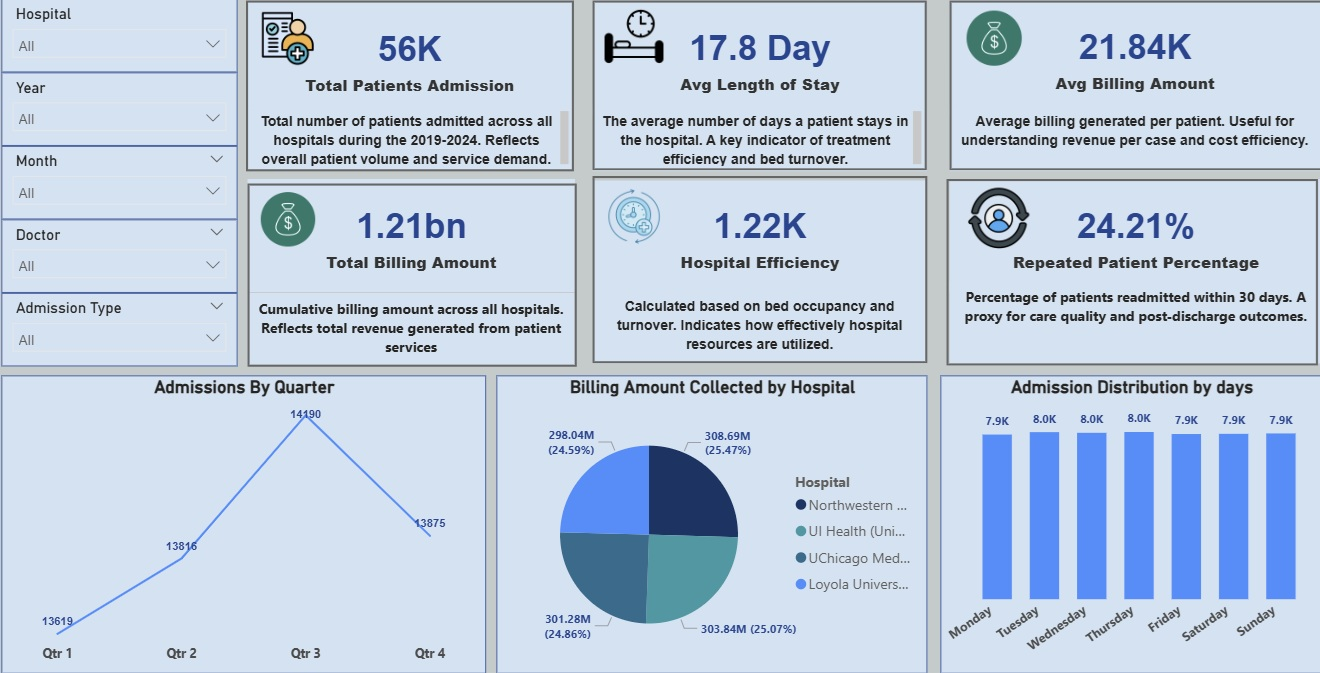

The page's visual inventory and layout, read from the dashboard file:
{"tool":"powerbi","page":{"name":"Executive Summary","canvas":[1280,720],"ordinal":2},"visuals":[{"type":"textbox","box":[9.8,7.1,256.3,57.6],"z":0},{"type":"slicer","fields":{"Values":["Healthcare data3 (1).Hospital"]},"box":[9.6,69.2,225,70.2],"z":1000},{"type":"slicer","fields":{"Values":["Healthcare data3 (1).Doctor"]},"box":[10,279,225,70],"z":2000},{"type":"slicer","fields":{"Values":["Healthcare data3 (1).Admission Type"]},"box":[10,349,225,70],"z":3000},{"type":"slicer","fields":{"Values":["Healthcare data3 (1).Date of Admission.Variation.Date Hierarchy.Month"]},"box":[10,209,225,70],"z":4000},{"type":"slicer","fields":{"Values":["Healthcare data3 (1).Date of Admission.Variation.Date Hierarchy.Year"]},"box":[10,139,225,70],"z":5000},{"type":"lineChart","title":"Admissions By Quarter","fields":{"Y":["CountNonNull(Healthcare data3 (1).Name)"],"Category":["Healthcare data3 (1).Date of Admission.Variation.Date Hierarchy.Quarter"]},"box":[9.6,427.9,462.5,284.6],"z":6000},{"type":"card","fields":{"Values":["Measure.Total Patients"]},"box":[243.8,70,312.1,110],"z":7000},{"type":"textbox","box":[244.2,170.2,311.5,62.5],"z":8000},{"type":"card","fields":{"Values":["Measure.Avg Length of Stay"]},"box":[574.6,70,319.2,109.1],"z":9000},{"type":"textbox","box":[575,170.2,319.2,62.5],"z":10000},{"type":"card","fields":{"Values":["Measure.Avg Billing Amount"]},"box":[915.1,69.2,353.8,110],"z":11000},{"type":"textbox","box":[915.4,170.2,353.8,62.5],"z":12000},{"type":"card","fields":{"Values":["Measure.Total Billing Amount"]},"box":[244.2,241.3,312.5,107.7],"z":13000},{"type":"textbox","box":[244.2,349,312.5,70.2],"z":14000},{"type":"card","fields":{"Values":["Measure.Hospital Efficiency"]},"box":[575,242.3,319.2,104.8],"z":15000},{"type":"textbox","box":[575,346.2,319.2,70.2],"z":16000},{"type":"card","fields":{"Values":["Measure.RepeatedPatientPercentage"]},"box":[915.4,241.3,355.8,107.7],"z":17000},{"type":"textbox","box":[915.4,337.5,355.8,78.8],"z":18000},{"type":"pieChart","title":"Billing Amount Collected by Hospital","fields":{"Y":["Sum(Healthcare data3 (1).Billing Amount)"],"Category":["Healthcare data3 (1).Hospital"]},"box":[483.1,428.2,411.3,284.5],"z":19000},{"type":"clusteredColumnChart","title":"Admission Distribution by days","fields":{"Y":["Measure.Total Admission"],"Category":["Healthcare data3 (1).WeekdayName"]},"box":[906.7,427.9,364.4,284.6],"z":20000},{"type":"shape","box":[243.4,69.7,313.2,163.2],"z":21000},{"type":"shape","box":[574.6,70,319.2,162.3],"z":22000},{"type":"shape","box":[915.1,70,356.5,162.3],"z":23000},{"type":"shape","box":[244.2,244.2,314.4,175],"z":24000},{"type":"shape","box":[574.6,238,319.7,178.9],"z":25000},{"type":"shape","box":[913,240.2,354.7,178.1],"z":26000},{"type":"image","box":[235,73.6,96.7,65.6],"z":27000},{"type":"image","box":[579,64.7,70,79.8],"z":28000},{"type":"image","box":[919.5,74.5,77.1,63],"z":29000},{"type":"image","box":[244.7,247.4,77.1,62.1],"z":30000},{"type":"image","box":[574.6,242.1,79.8,68.3],"z":31000},{"type":"image","box":[919.5,243.8,85.1,69.2],"z":32000},{"type":"image","box":[1206.8,10.6,64.7,58.5],"z":33000},{"type":"image","box":[1150.9,19.5,53.2,41.7],"z":34000}]}

Visuals, with their boxes on the page's 1280x720 design canvas (x1, y1, x2, y2). These are canvas units, not pixel positions in the 1320x673 screenshot, which may show the page scaled, cropped or inside an application window:
textbox: region(10, 7, 266, 65)
slicer - Healthcare data3 (1).Hospital: region(10, 69, 235, 139)
slicer - Healthcare data3 (1).Doctor: region(10, 279, 235, 349)
slicer - Healthcare data3 (1).Admission Type: region(10, 349, 235, 419)
slicer - Healthcare data3 (1).Date of Admission.Variation.Date Hierarchy.Month: region(10, 209, 235, 279)
slicer - Healthcare data3 (1).Date of Admission.Variation.Date Hierarchy.Year: region(10, 139, 235, 209)
"Admissions By Quarter" lineChart: region(10, 428, 472, 712)
card - Measure.Total Patients: region(244, 70, 556, 180)
textbox: region(244, 170, 556, 233)
card - Measure.Avg Length of Stay: region(575, 70, 894, 179)
textbox: region(575, 170, 894, 233)
card - Measure.Avg Billing Amount: region(915, 69, 1269, 179)
textbox: region(915, 170, 1269, 233)
card - Measure.Total Billing Amount: region(244, 241, 557, 349)
textbox: region(244, 349, 557, 419)
card - Measure.Hospital Efficiency: region(575, 242, 894, 347)
textbox: region(575, 346, 894, 416)
card - Measure.RepeatedPatientPercentage: region(915, 241, 1271, 349)
textbox: region(915, 338, 1271, 416)
"Billing Amount Collected by Hospital" pieChart: region(483, 428, 894, 713)
"Admission Distribution by days" clusteredColumnChart: region(907, 428, 1271, 712)
shape: region(243, 70, 557, 233)
shape: region(575, 70, 894, 232)
shape: region(915, 70, 1272, 232)
shape: region(244, 244, 559, 419)
shape: region(575, 238, 894, 417)
shape: region(913, 240, 1268, 418)
image: region(235, 74, 332, 139)
image: region(579, 65, 649, 144)
image: region(920, 74, 997, 138)
image: region(245, 247, 322, 310)
image: region(575, 242, 654, 310)
image: region(920, 244, 1005, 313)
image: region(1207, 11, 1272, 69)
image: region(1151, 20, 1204, 61)
